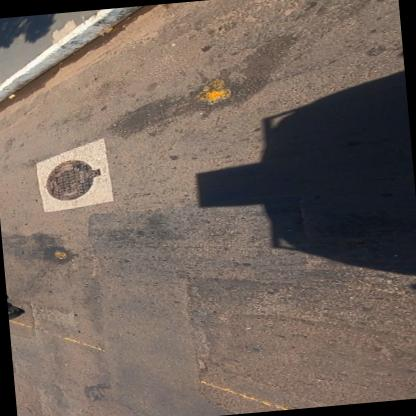manholes: (38, 149, 124, 206)
